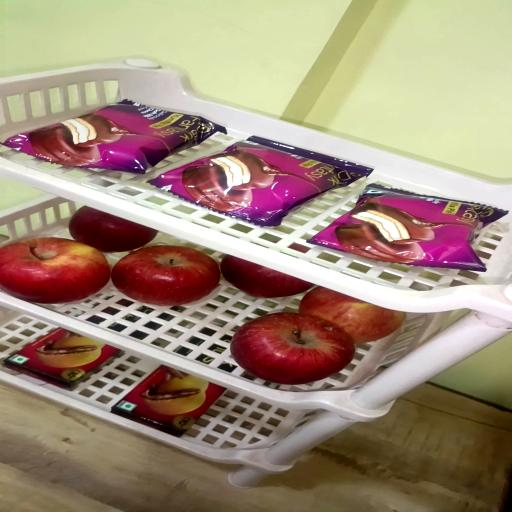Apple: (230, 312, 355, 385), (0, 237, 110, 303), (111, 246, 220, 306), (299, 287, 406, 344), (69, 206, 158, 252), (220, 255, 313, 298)
Choco Fills: (111, 365, 224, 437), (2, 328, 123, 390)
Choco Pie: (149, 137, 372, 226), (308, 184, 507, 271), (4, 99, 226, 174)
